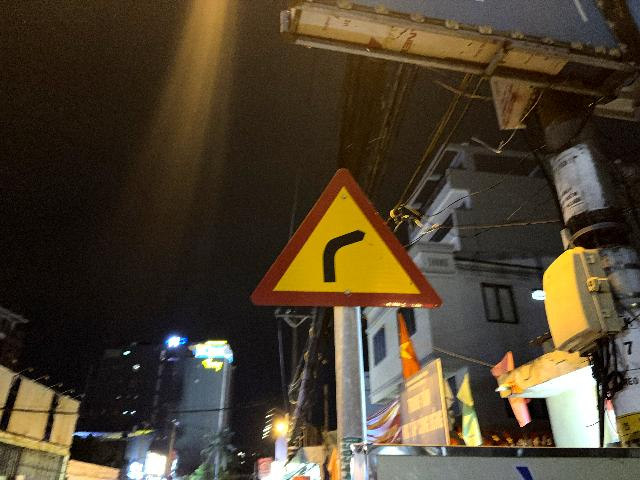cho-ngoat-nguy-hiem-ben-phai: (251, 166, 442, 307)
